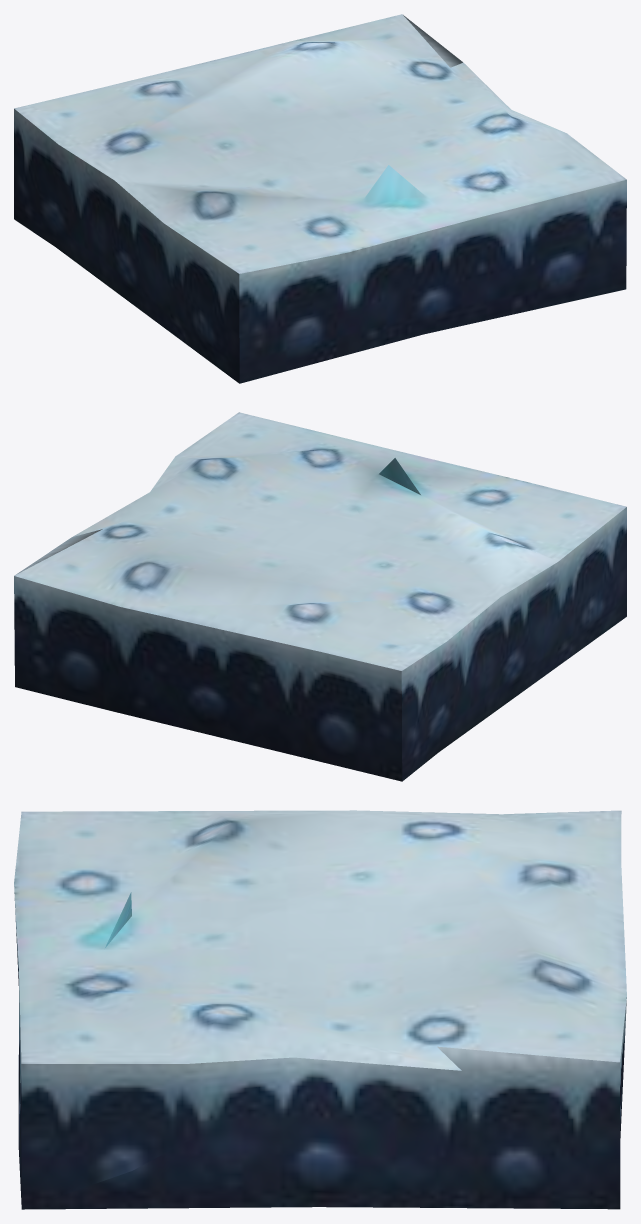
Rendered from b_givre_sol_1_lo.glb.
The picture shows the model from 3 angles, top to bottom: view 1: azimuth 30°, elevation 25°; view 2: azimuth 150°, elevation 25°; view 3: azimuth 270°, elevation 25°; orthographic projection. The views are drawn at different scales.
Visible parts, largest first — view 1: geometry_0; view 2: geometry_0; view 3: geometry_0.
Boxes of the visible parts, bbox=[...] form: geometry_0: bbox=[14, 14, 626, 383]; geometry_0: bbox=[14, 412, 626, 781]; geometry_0: bbox=[14, 810, 626, 1209].
Bounding box in the file's own units: 0.987 × 0.3374 × 0.9826.
1 material, 1 textured.
